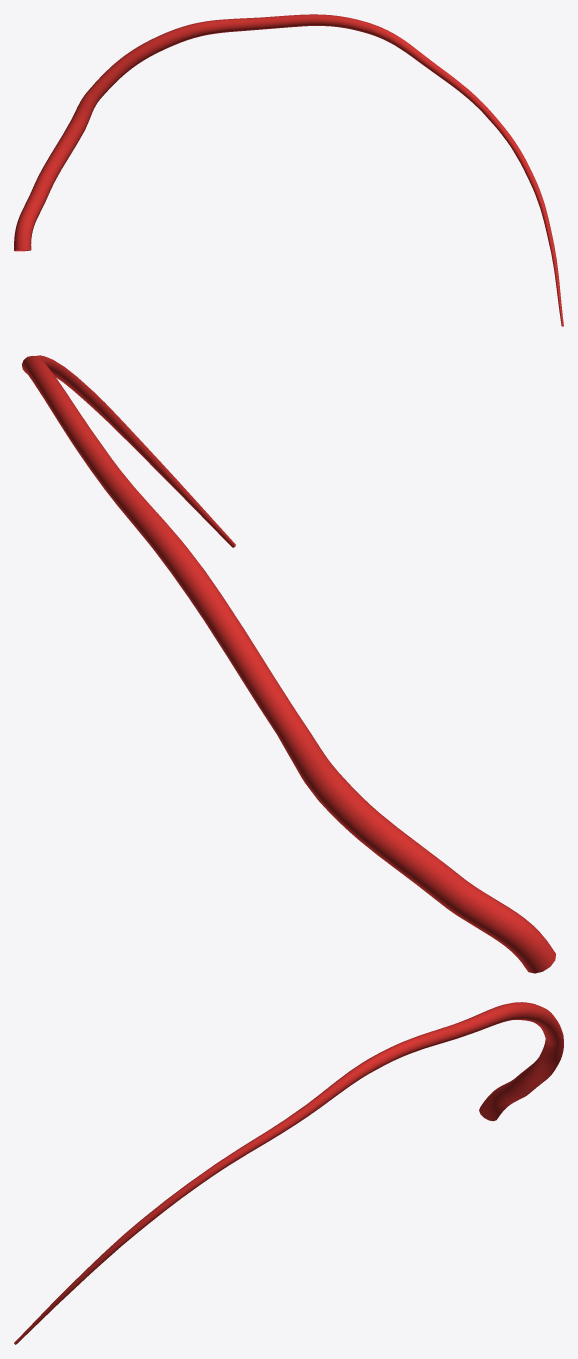
The model's file is circulatorio-iliacus-branch-of-iliolumbar-artery-l.glb.
The picture shows the model from 3 angles, top to bottom: view 1: azimuth 30°, elevation 25°; view 2: azimuth 150°, elevation 25°; view 3: azimuth 270°, elevation 25°; orthographic projection. The views are drawn at different scales.
Parts seen in each view (by area): view 1: Iliacus branch of iliolumbar artery.l; view 2: Iliacus branch of iliolumbar artery.l; view 3: Iliacus branch of iliolumbar artery.l.
Part boxes in pixels (x1,y1,x2,y2): Iliacus branch of iliolumbar artery.l: [14, 14, 563, 326]; Iliacus branch of iliolumbar artery.l: [22, 355, 555, 973]; Iliacus branch of iliolumbar artery.l: [14, 1002, 563, 1344].
Size of the model in its own units: 0.0885 by 0.0476 by 0.0915.
